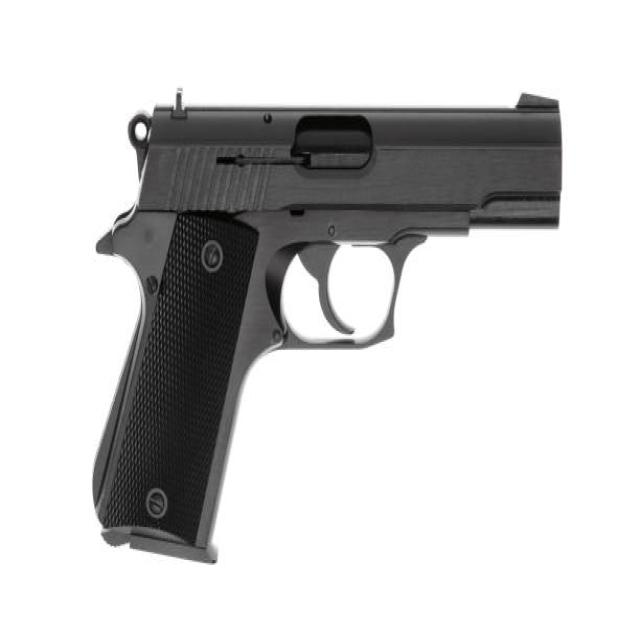pistol: (79, 84, 570, 577)
